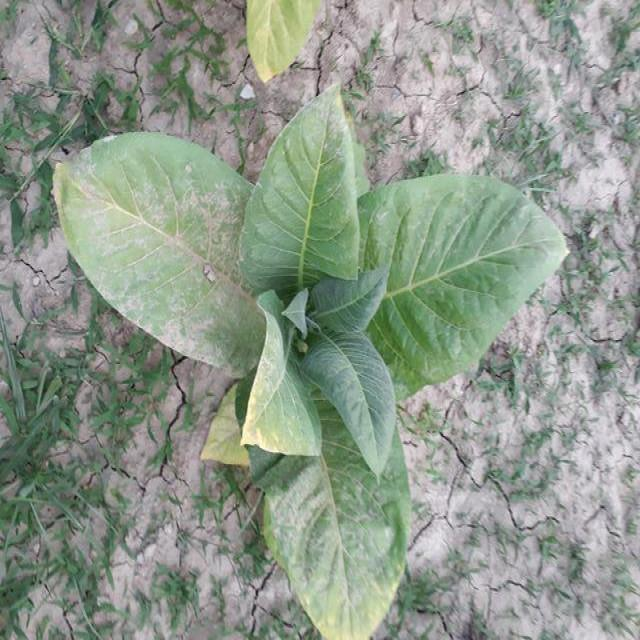crop: (51, 79, 574, 640)
